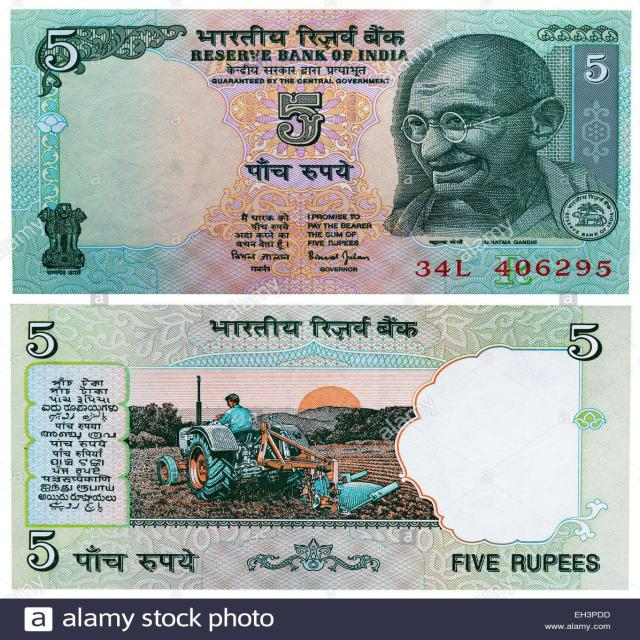5IndianRupees: (13, 306, 632, 590)
